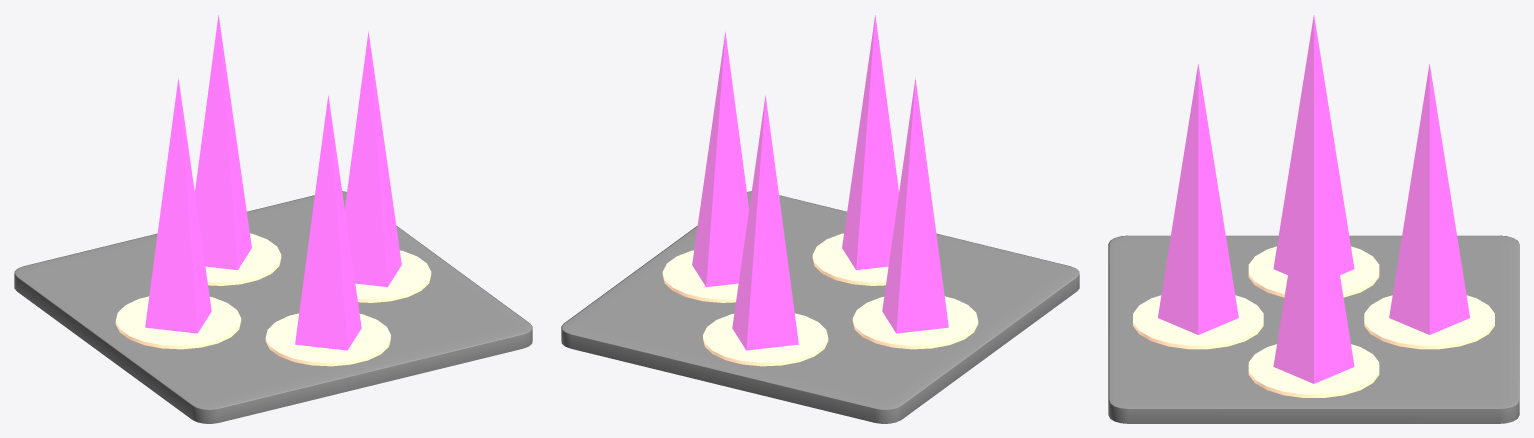
The model's file is SM_Spike_Obstacle.fbx.
The picture shows the model from 3 angles, left to right: view 1: azimuth 30°, elevation 25°; view 2: azimuth 150°, elevation 25°; view 3: azimuth 270°, elevation 25°; orthographic projection. The views are drawn at different scales.
Visible parts, largest first — view 1: Spike_Obstacle_02, Spike_Obstacle_01; view 2: Spike_Obstacle_02, Spike_Obstacle_01; view 3: Spike_Obstacle_02, Spike_Obstacle_01.
Boxes of the visible parts, x1,y1,x2,y2 form: Spike_Obstacle_02: (14,191,532,423); Spike_Obstacle_01: (145,15,401,350); Spike_Obstacle_02: (561,191,1079,423); Spike_Obstacle_01: (692,15,948,350); Spike_Obstacle_02: (1108,235,1519,423); Spike_Obstacle_01: (1158,15,1469,383).
Size of the model in its own units: 3.22 by 2.38 by 3.22.
